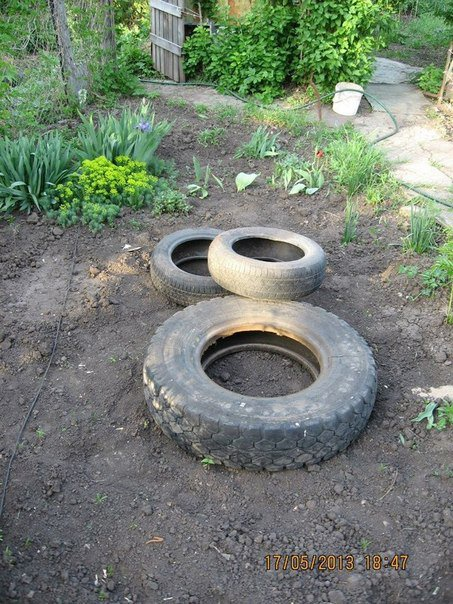tire: (134, 290, 383, 472), (137, 228, 264, 306), (201, 227, 333, 302)
